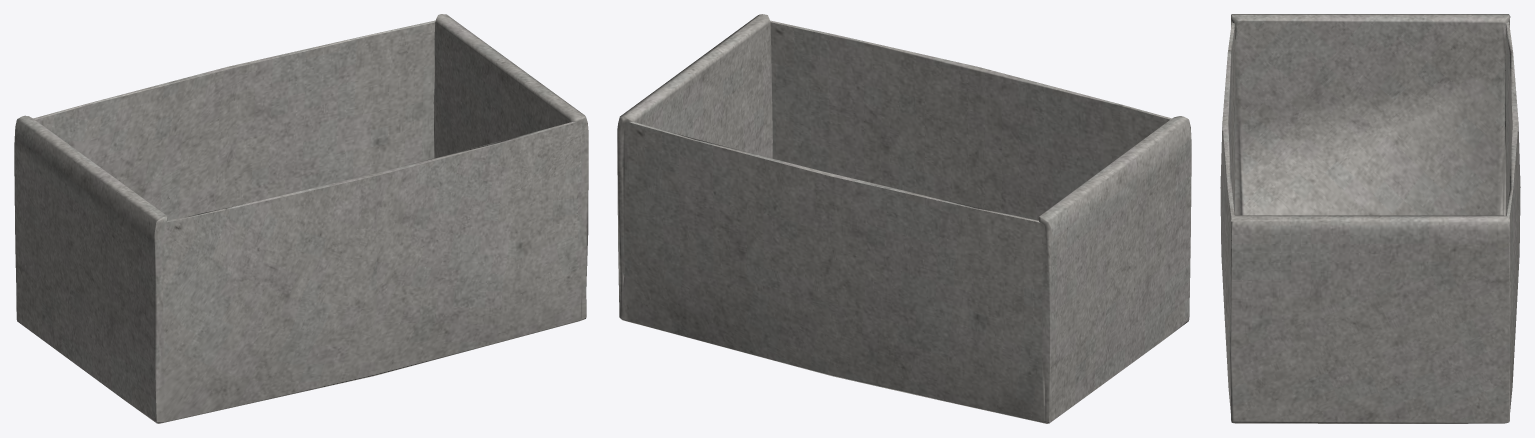
The picture shows the model from 3 angles, left to right: view 1: azimuth 30°, elevation 25°; view 2: azimuth 150°, elevation 25°; view 3: azimuth 270°, elevation 25°; orthographic projection.
Visible parts, largest first — view 1: ProcessedMeshNode; view 2: ProcessedMeshNode; view 3: ProcessedMeshNode.
Boxes of the visible parts, x1,y1,x2,y2 form: ProcessedMeshNode: [14, 14, 588, 423]; ProcessedMeshNode: [617, 14, 1191, 423]; ProcessedMeshNode: [1220, 14, 1520, 423].
Bounding box in the file's own units: 0.2678 × 0.1221 × 0.161.
1 material, 1 textured.
